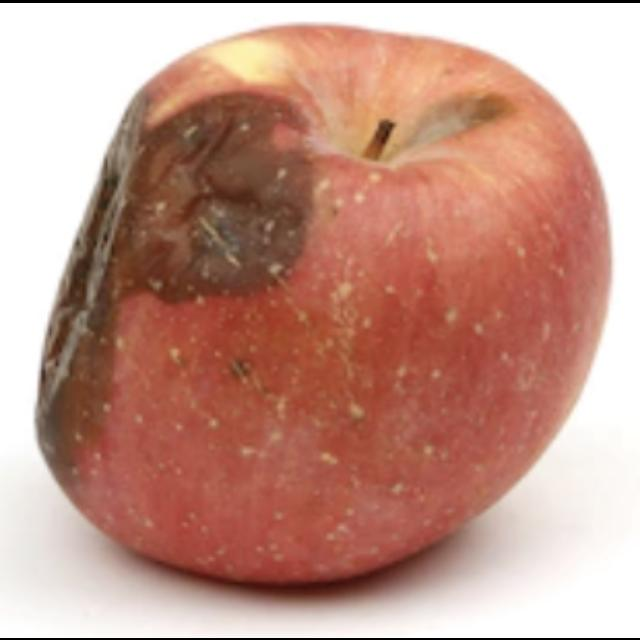Apel Tidak Segar: (32, 2, 628, 606)
